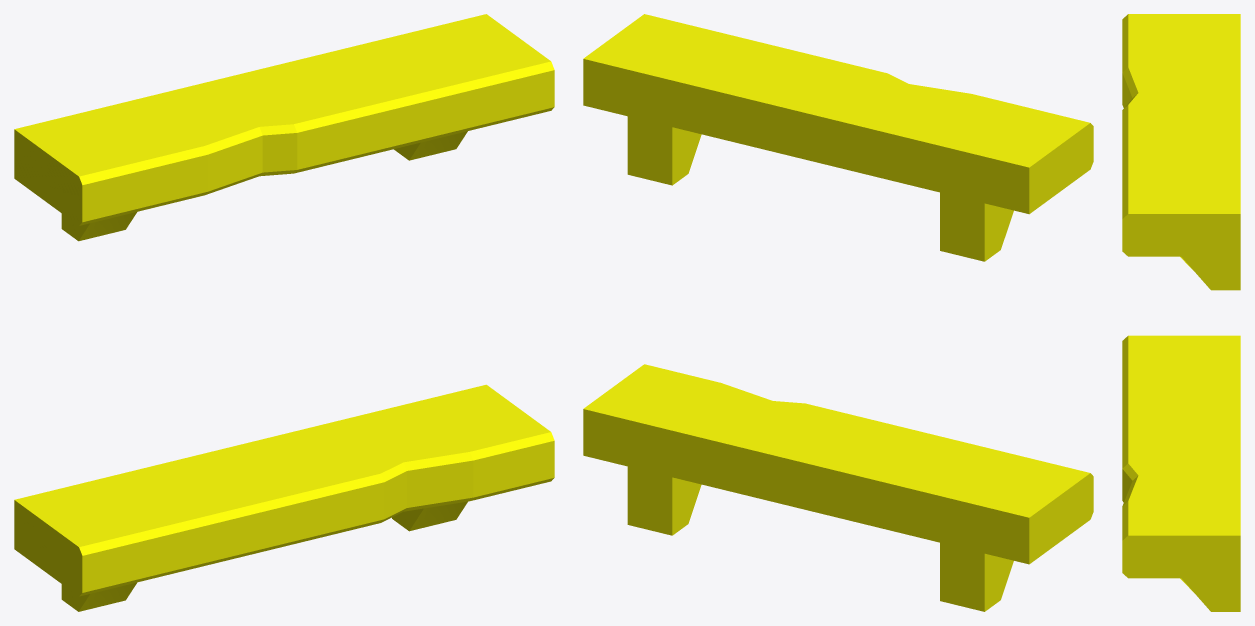
Rendered from kaykit-shelves.glb.
3 renders of one model, left to right at view 1: azimuth 30°, elevation 25°; view 2: azimuth 150°, elevation 25°; view 3: azimuth 270°, elevation 25°, orthographic. The views are drawn at different scales.
Parts seen in each view (by area): view 1: shelves; view 2: shelves; view 3: shelves.
Part boxes in pixels (x1,y1,x2,y2): shelves: (14,14,554,611); shelves: (583,14,1093,611); shelves: (1122,14,1240,611).
Size of the model in its own units: 2 by 1.95 by 0.5001.
